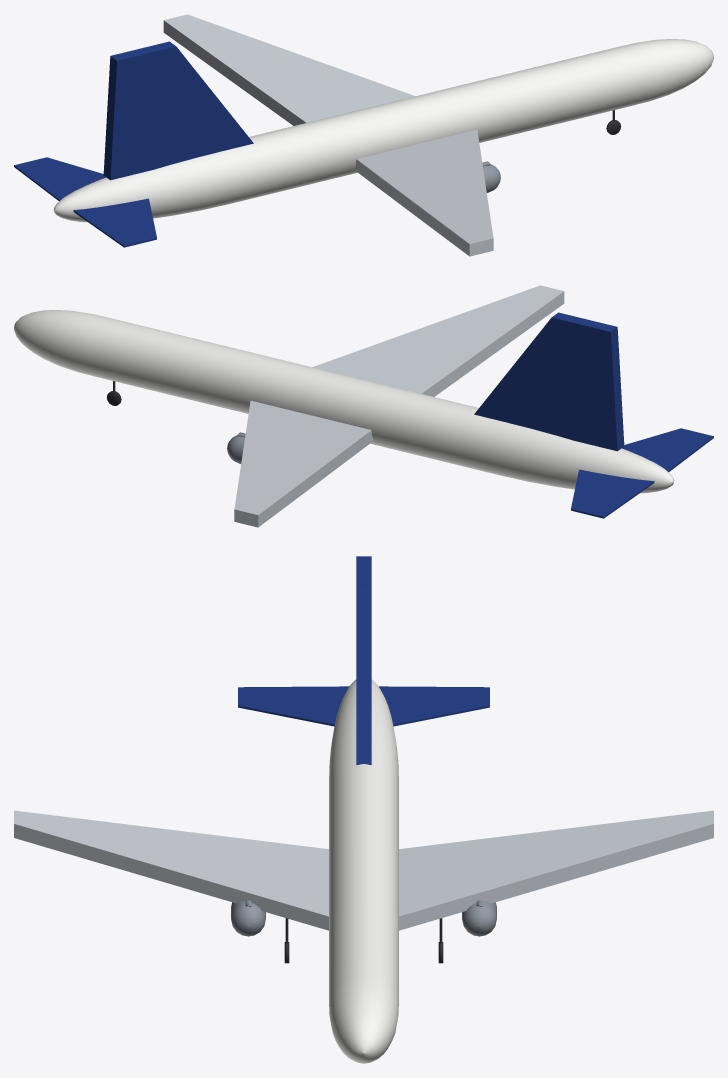
3 renders of one model, top to bottom at view 1: azimuth 30°, elevation 25°; view 2: azimuth 150°, elevation 25°; view 3: azimuth 270°, elevation 25°, orthographic. The views are drawn at different scales.
Parts seen in each view (by area): view 1: fuselage, wings, tail, engines; view 2: fuselage, wings, tail, engines; view 3: wings, fuselage, tail, engines.
Part boxes in pixels (<box>): fuselage: <box>53,39,713,222</box>; wings: <box>163,14,493,256</box>; tail: <box>14,41,253,247</box>; engines: <box>482,161,500,192</box>; fuselage: <box>14,310,674,493</box>; wings: <box>234,285,564,527</box>; tail: <box>474,312,713,518</box>; engines: <box>227,432,245,463</box>; wings: <box>14,810,713,930</box>; fuselage: <box>329,679,398,1063</box>; tail: <box>238,556,489,765</box>; engines: <box>231,900,496,936</box>.
Bounding box in the file's own units: 47.3 × 13.59 × 38.1.
